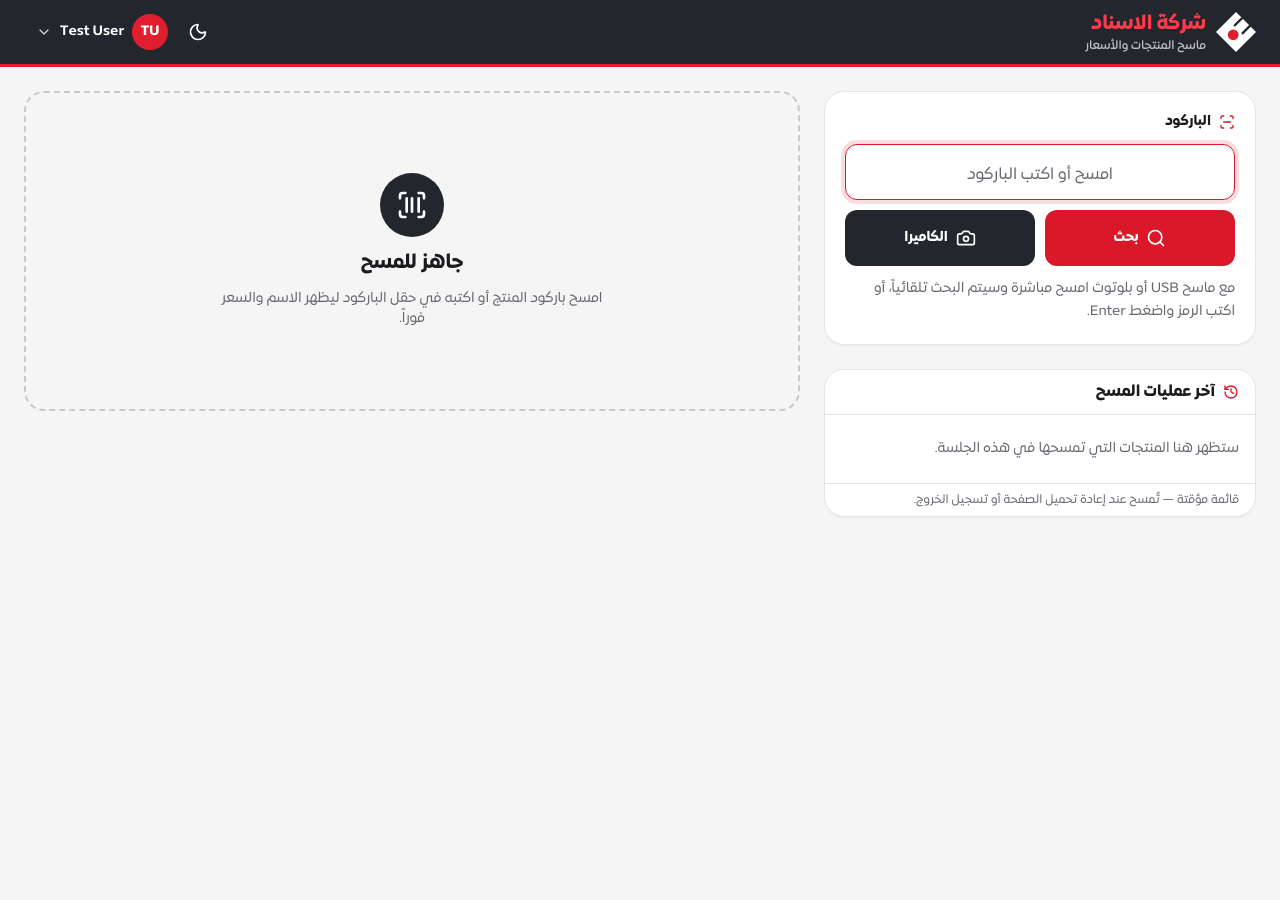
Test: ScannerPage › lets the user resolve an ambiguous barcode; the choice is sent for server validation
Type "555" into the field labelled "الباركود". click: (1040, 172)
box: [845, 144, 1235, 200]
Then press Enter
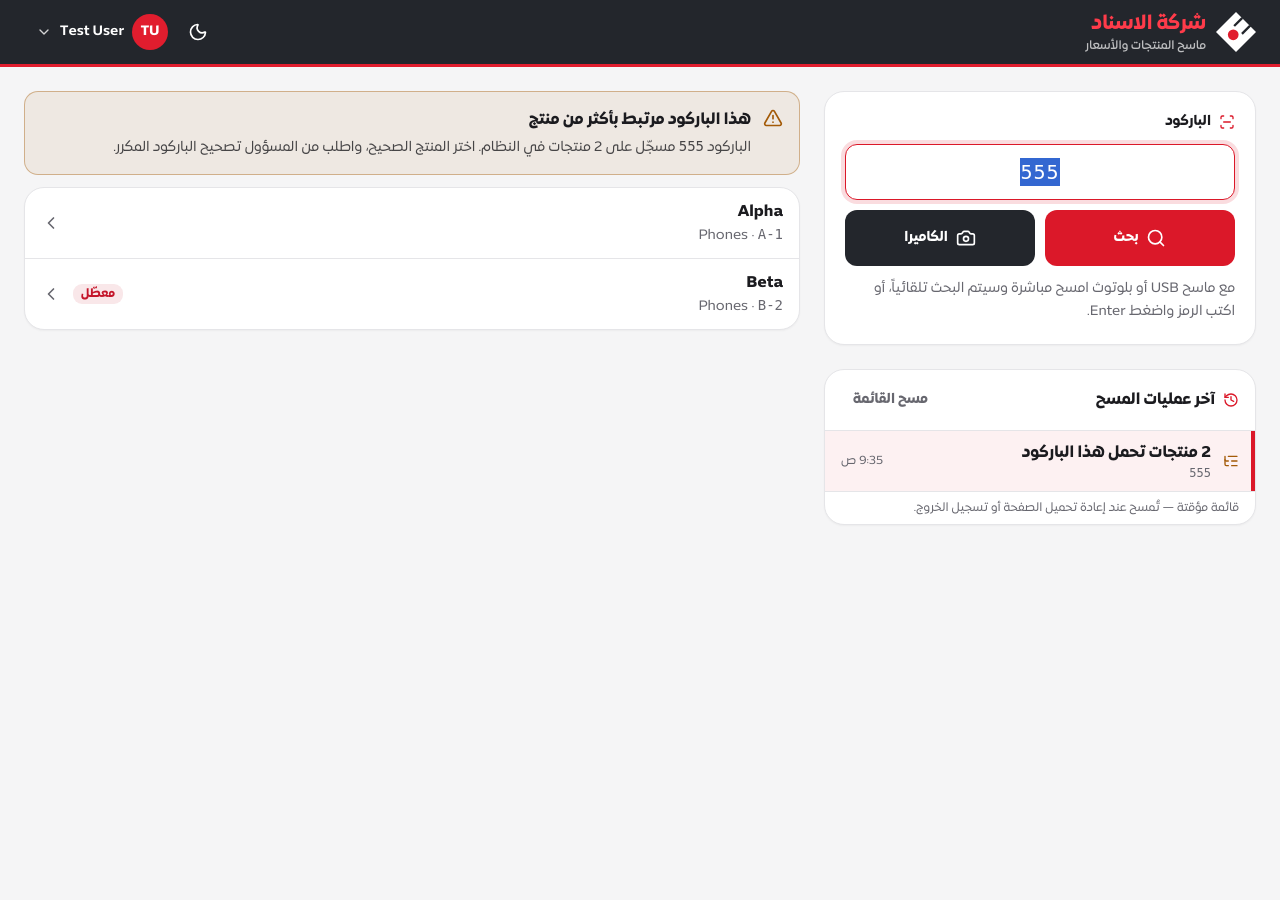
Click the button "Beta B-2 · Phones معطّل". click: (765, 283)
box: [25, 259, 799, 329]
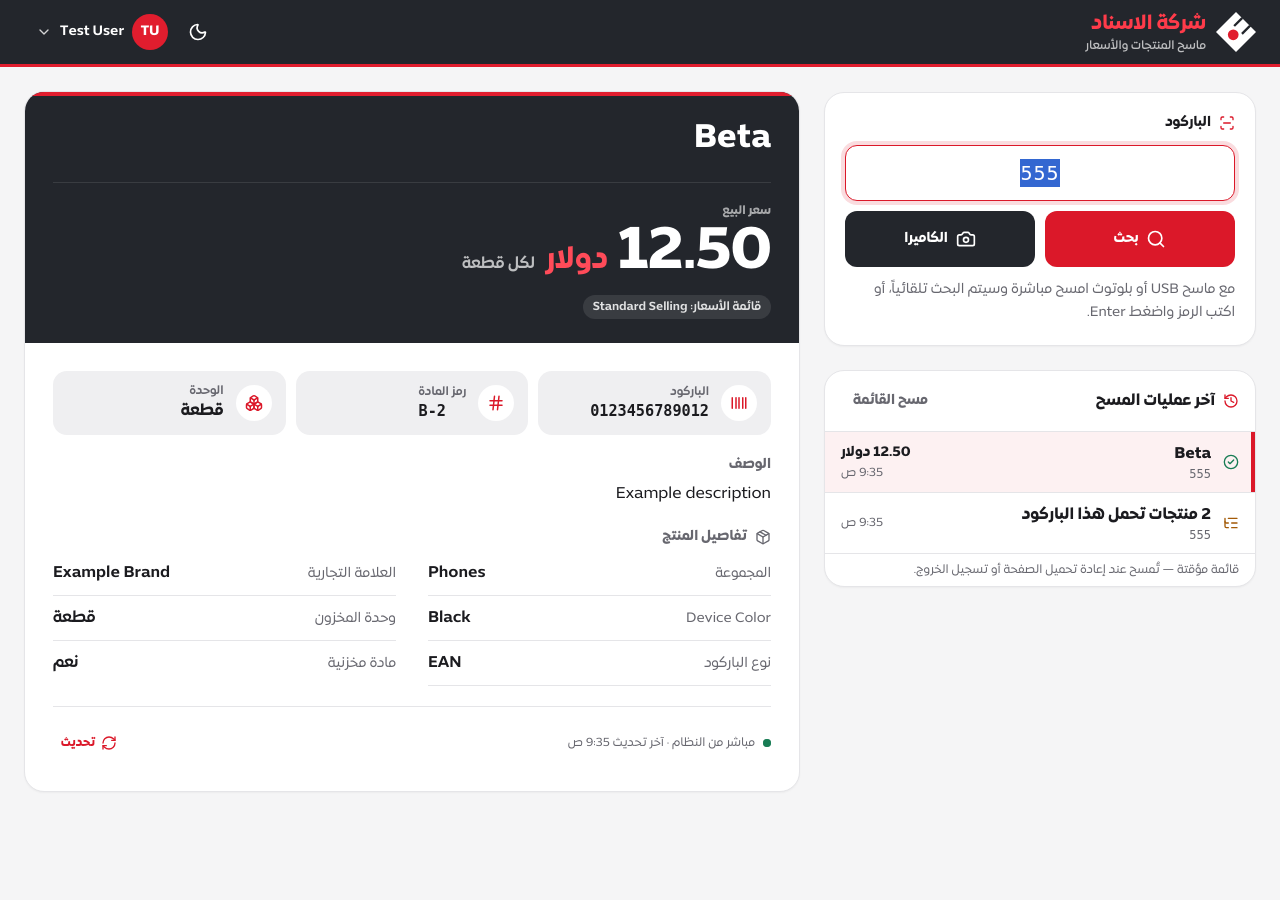
Expected: the heading "Beta" is shown, [694, 118, 771, 159]
